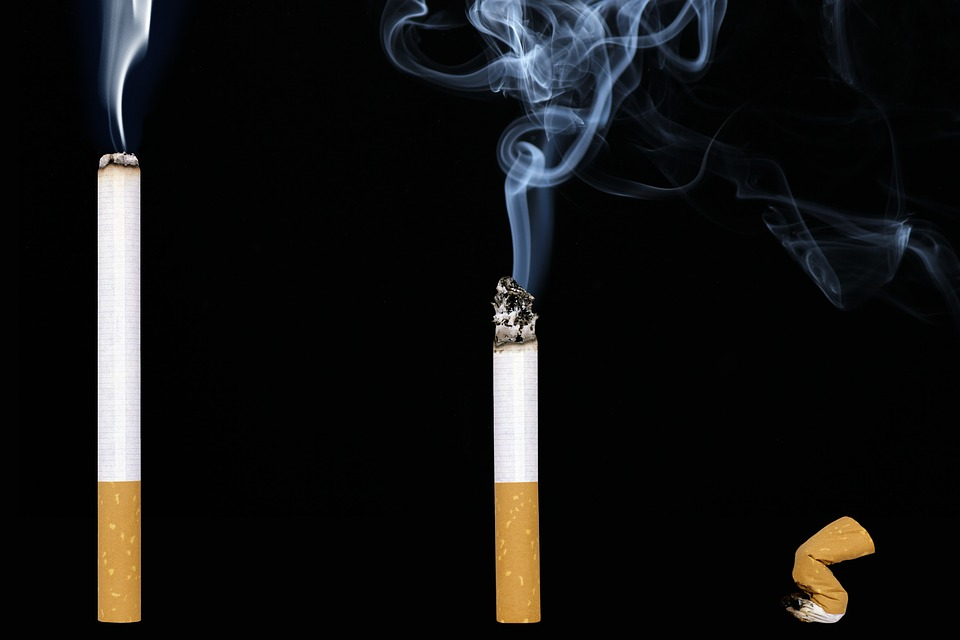cigarette: (85, 148, 145, 626), (481, 273, 548, 623)
